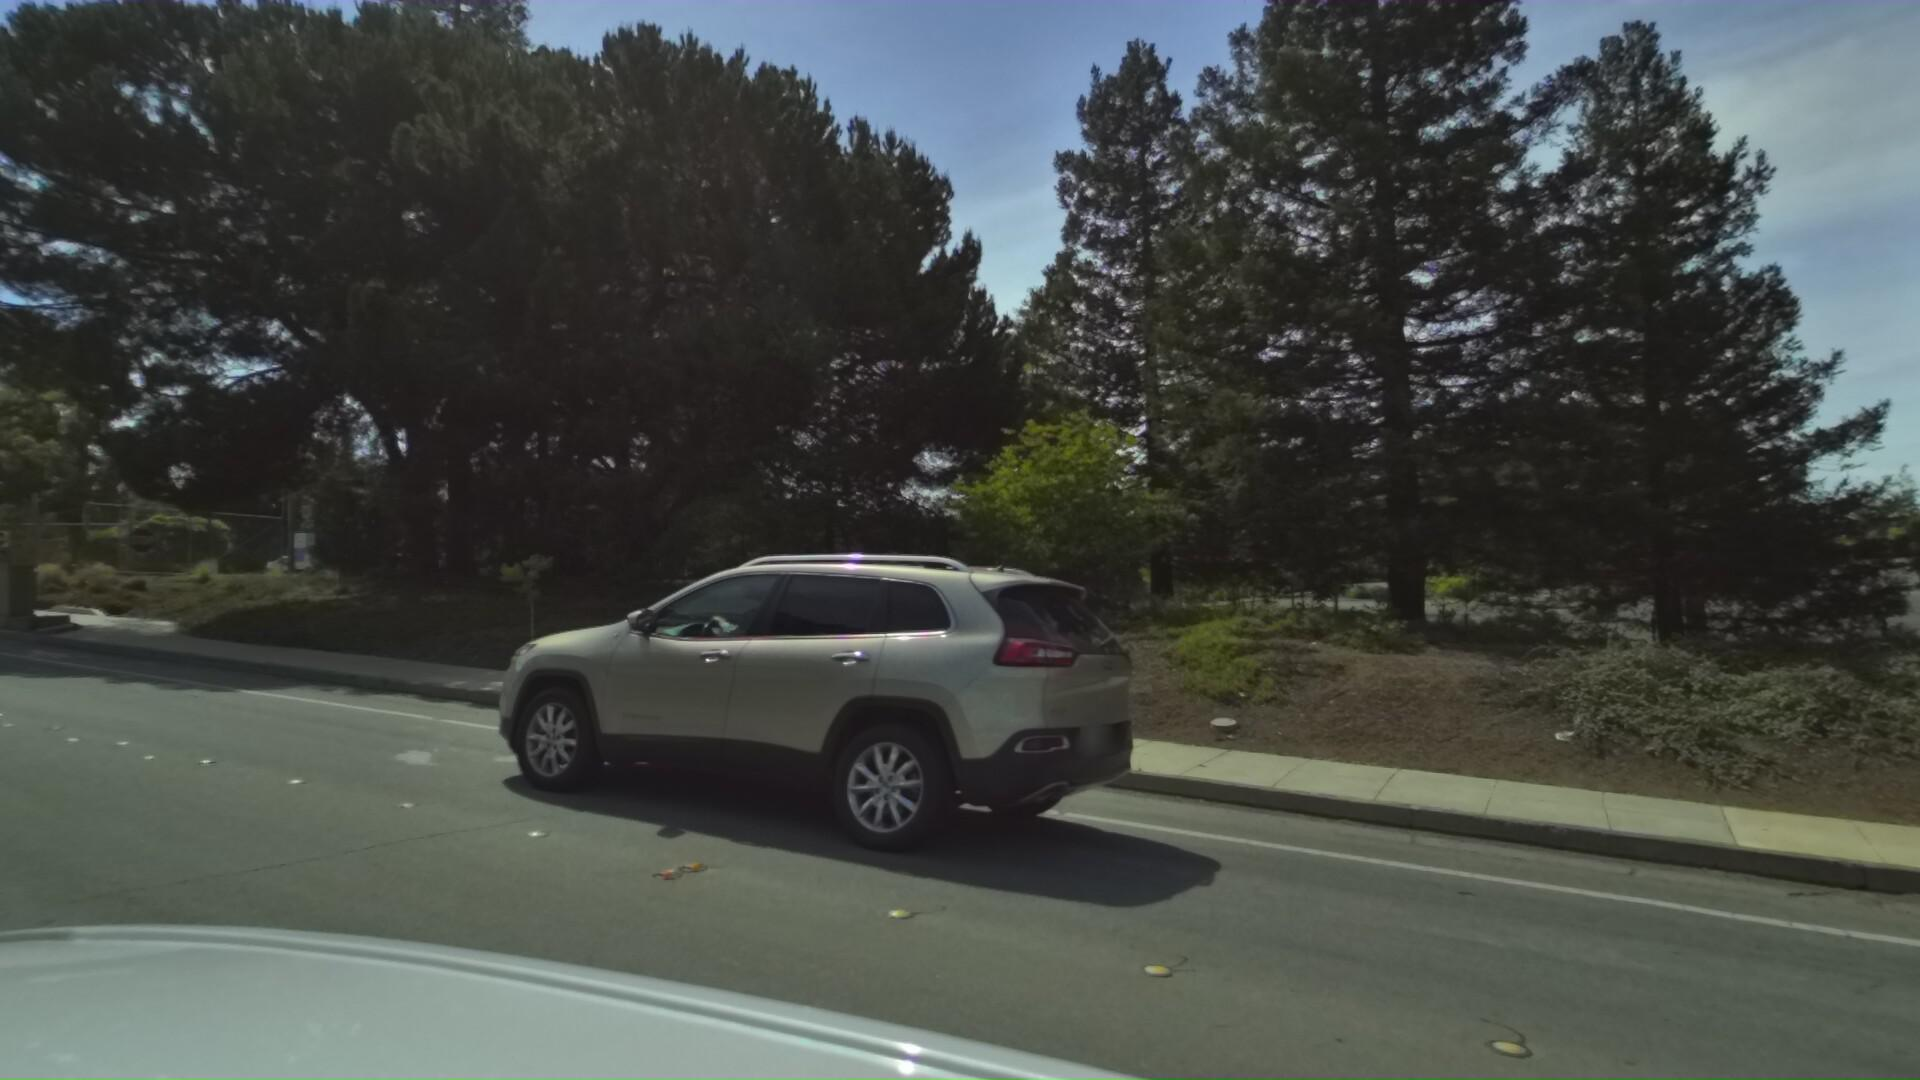car: (348, 516, 1047, 844)
